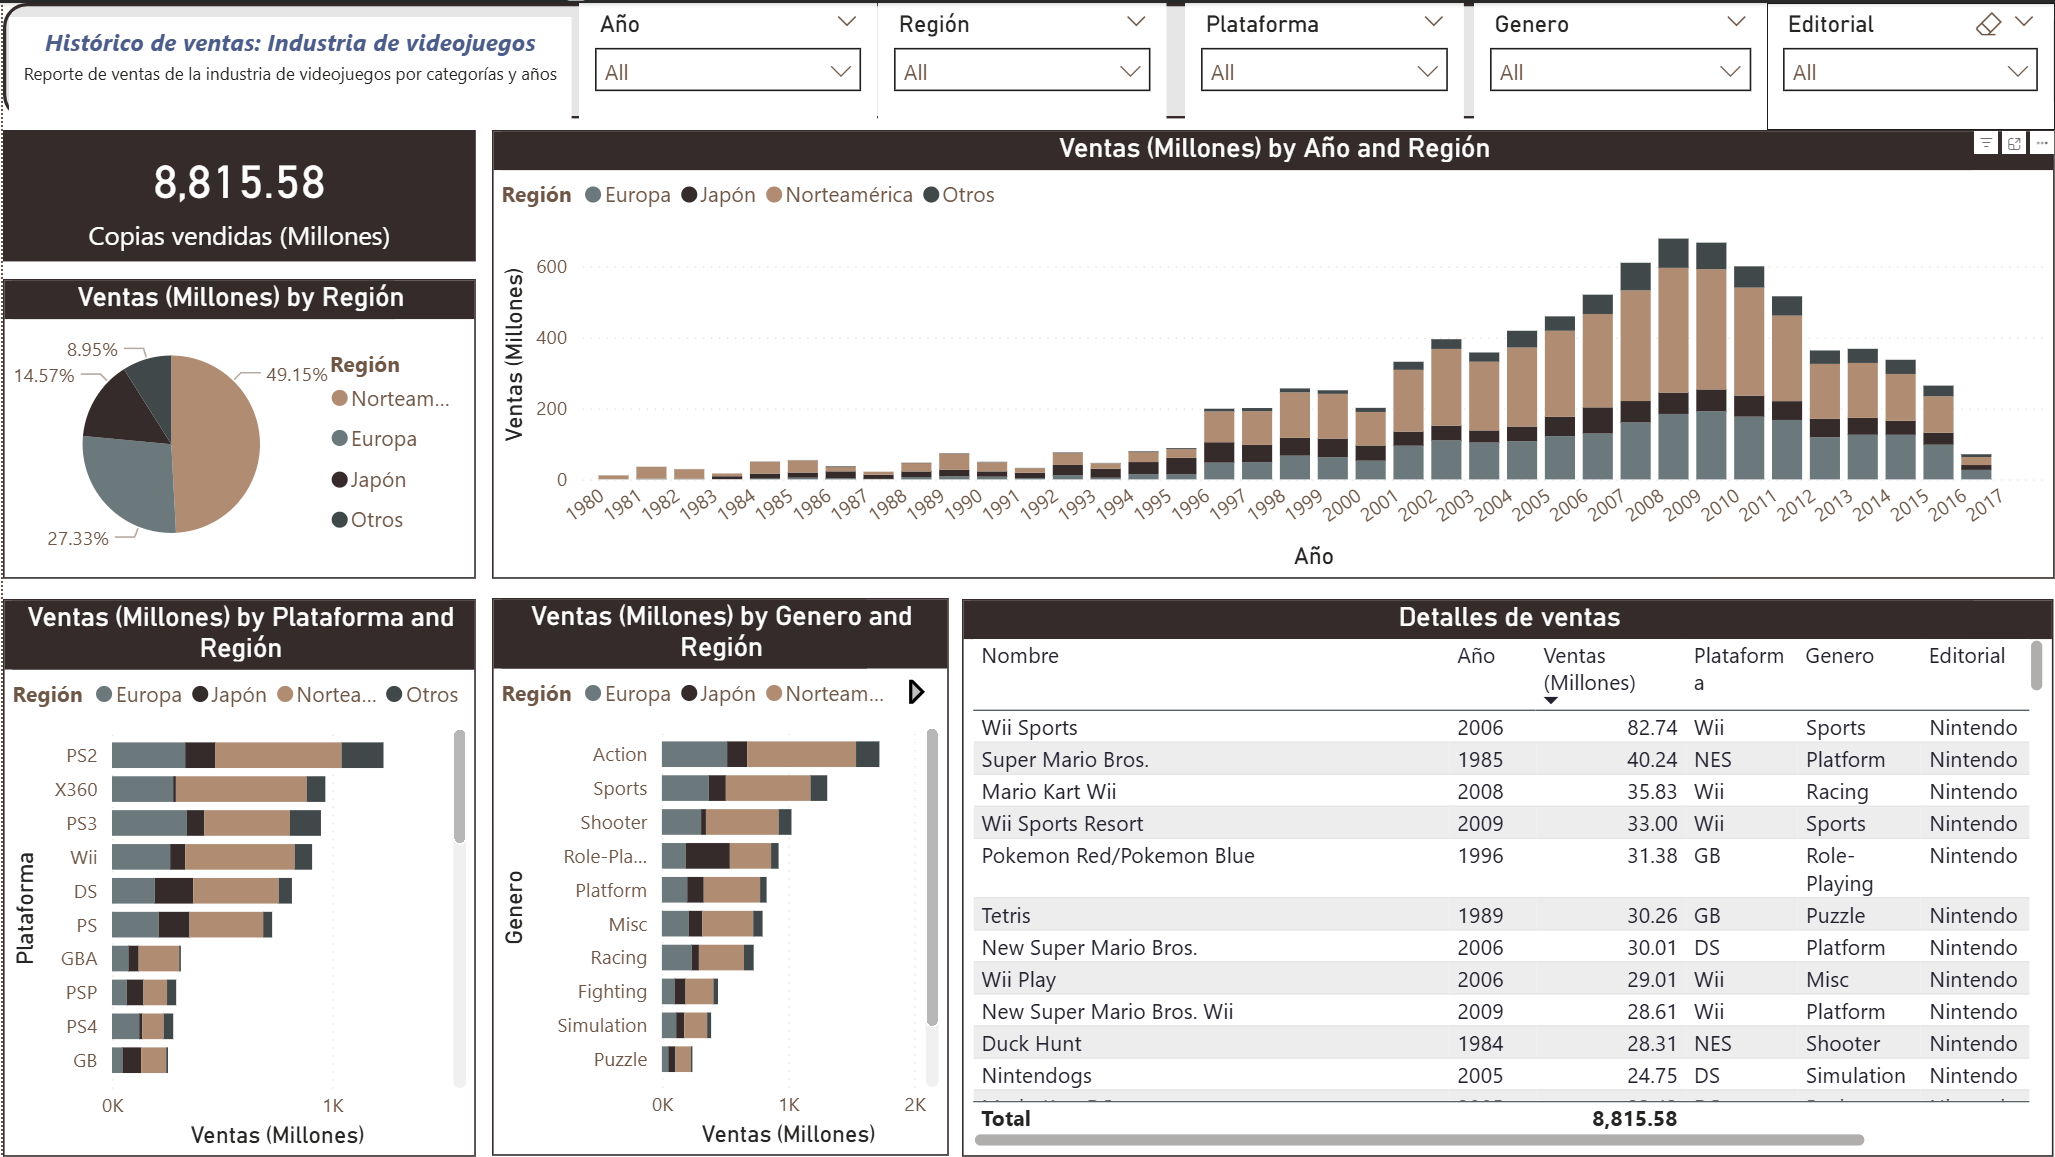

This screenshot's page, from the dashboard's own definition file:
{"tool":"powerbi","page":{"name":"Análisis ventas","canvas":[1280,720],"ordinal":0},"visuals":[{"type":"shape","box":[0,0,1280,72.5],"z":0},{"type":"tableEx","title":"Detalles de ventas","fields":{"Values":["Ventas Videojuegos.Nombre","Ventas Videojuegos.Año","Sum(Ventas Videojuegos.Ventas (Millones))","Ventas Videojuegos.Plataforma","Ventas Videojuegos.Genero","Ventas Videojuegos.Editorial"]},"box":[598.6,371.8,681.4,348.5],"z":1000},{"type":"columnChart","fields":{"Category":["Ventas Videojuegos.Año"],"Y":["Sum(Ventas Videojuegos.Ventas (Millones))"],"Series":["Ventas Videojuegos.Región"]},"box":[305.3,79.4,974.7,280.3],"z":2000},{"type":"pieChart","fields":{"Category":["Ventas Videojuegos.Región"],"Y":["Sum(Ventas Videojuegos.Ventas (Millones))"]},"box":[0,172.5,295,187.2],"z":3000},{"type":"barChart","fields":{"Y":["Sum(Ventas Videojuegos.Ventas (Millones))"],"Series":["Ventas Videojuegos.Región"],"Category":["Ventas Videojuegos.Plataforma"]},"box":[0,371.8,295,348.5],"z":4000},{"type":"barChart","fields":{"Y":["Sum(Ventas Videojuegos.Ventas (Millones))"],"Series":["Ventas Videojuegos.Región"],"Category":["Ventas Videojuegos.Genero"]},"box":[305.3,371.5,284.6,348.5],"z":5000},{"type":"card","fields":{"Values":["Sum(Ventas Videojuegos.Ventas (Millones))"]},"box":[0,79.4,295,81.9],"z":6000},{"type":"slicer","fields":{"Values":["Ventas Videojuegos.Año"]},"box":[359.7,0,186.3,79.4],"z":7000},{"type":"slicer","fields":{"Values":["Ventas Videojuegos.Región"]},"box":[546,0,180.3,79.4],"z":8000},{"type":"slicer","fields":{"Values":["Ventas Videojuegos.Plataforma"]},"box":[737.5,0,174.2,79.4],"z":9000},{"type":"slicer","fields":{"Values":["Ventas Videojuegos.Genero"]},"box":[917.7,0,182.9,79.4],"z":10000},{"type":"slicer","fields":{"Values":["Ventas Videojuegos.Editorial"]},"box":[1100.6,0,179.4,79.4],"z":11000},{"type":"textbox","box":[3.5,8.6,351.1,69],"z":12000}]}

Visuals, with their boxes in screenshot pixels (x1, y1, x2, y2), scaled from the page's 1280x720 canvas onto the 2055x1157 screenshot:
shape: 0:0:2054:117
"Detalles de ventas" tableEx: 961:597:2054:1156
columnChart - Ventas Videojuegos.Año x Sum(Ventas Videojuegos.Ventas (Millones)): 490:128:2054:578
pieChart - Ventas Videojuegos.Región x Sum(Ventas Videojuegos.Ventas (Millones)): 0:277:474:578
barChart - Sum(Ventas Videojuegos.Ventas (Millones)) x Ventas Videojuegos.Región: 0:597:474:1156
barChart - Sum(Ventas Videojuegos.Ventas (Millones)) x Ventas Videojuegos.Región: 490:597:947:1156
card - Sum(Ventas Videojuegos.Ventas (Millones)): 0:128:474:259
slicer - Ventas Videojuegos.Año: 577:0:877:128
slicer - Ventas Videojuegos.Región: 877:0:1166:128
slicer - Ventas Videojuegos.Plataforma: 1184:0:1464:128
slicer - Ventas Videojuegos.Genero: 1473:0:1767:128
slicer - Ventas Videojuegos.Editorial: 1767:0:2054:128
textbox: 6:14:569:125
